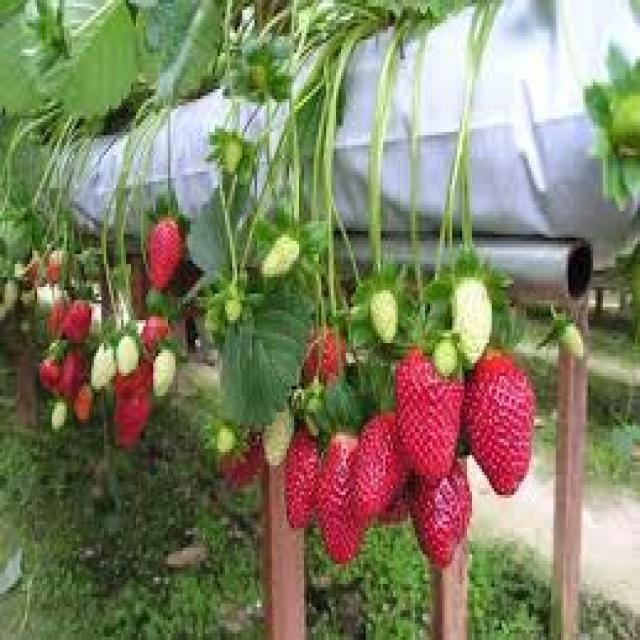Fruta sana: (471, 354, 536, 497), (397, 350, 467, 482), (317, 432, 373, 564), (412, 456, 475, 572), (355, 410, 407, 521), (298, 321, 355, 412), (286, 422, 325, 528), (115, 347, 154, 448), (223, 410, 270, 493), (146, 210, 184, 292), (52, 344, 80, 397), (66, 294, 89, 348), (47, 292, 72, 335)
